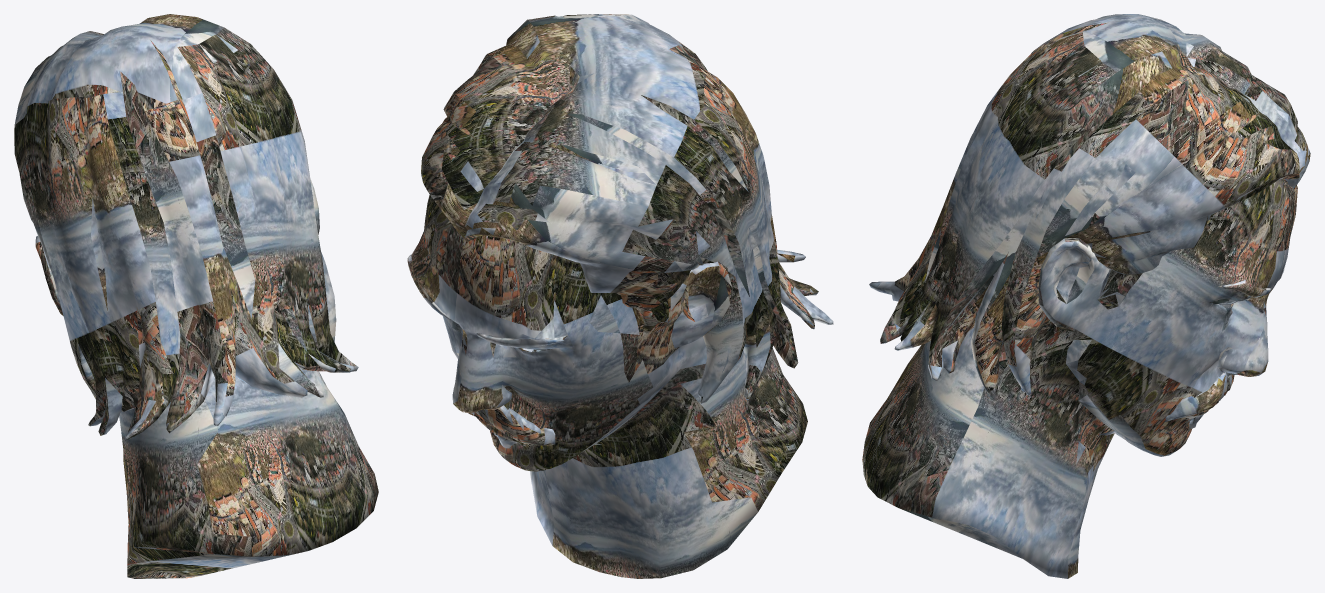
3 views of the same model, side by side, from view 1: azimuth 30°, elevation 25°; view 2: azimuth 150°, elevation 25°; view 3: azimuth 270°, elevation 25° (orthographic). The views are drawn at different scales.
Visible parts, largest first — view 1: head; view 2: head; view 3: head.
Boxes of the visible parts, x1,y1,x2,y2 form: head: (14, 14, 378, 578); head: (407, 14, 833, 578); head: (862, 14, 1310, 578).
Size of the model in its own units: 0.2229 by 0.4356 by 0.3333.
1 material, 1 textured.
